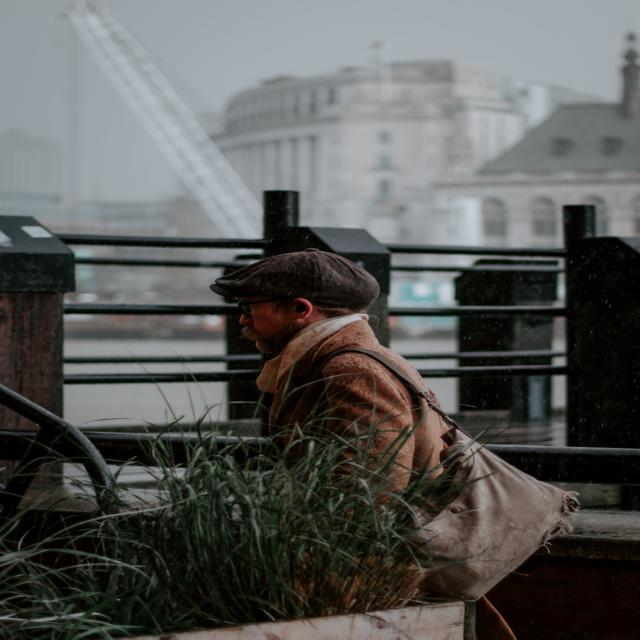adult: (215, 242, 488, 640)
